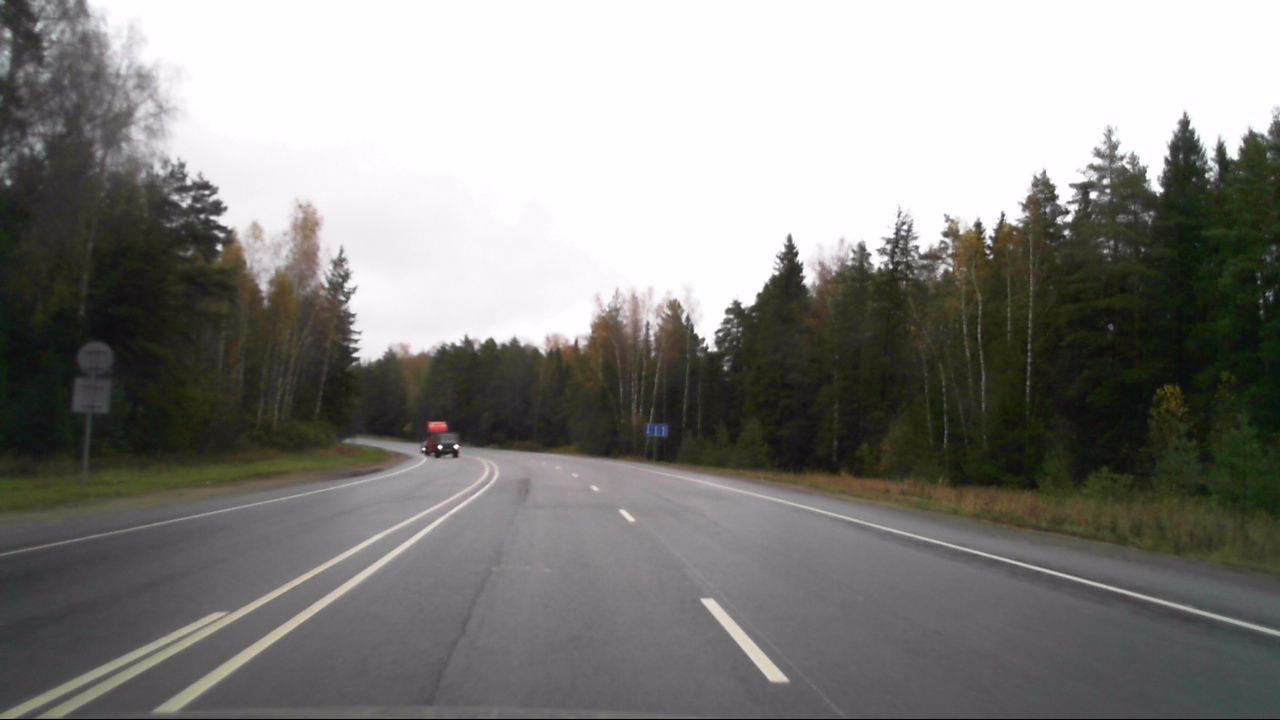5_15_7: (642, 421, 670, 439)
